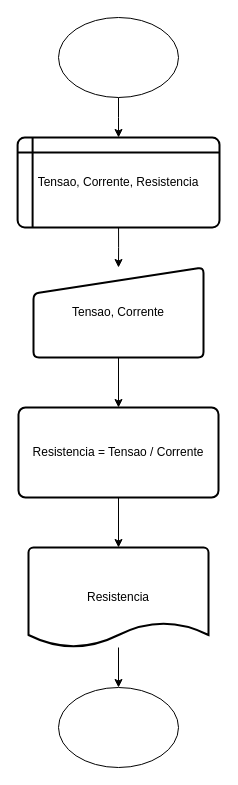
The diagram is 238 pixels wide and 785 high, and some of its shapes have lost their labels. The shapes that lost their labels are listed below. From the top down, each one's centre as x and y in pixels, then its label:
point 118,57: Start
point 118,727: End
